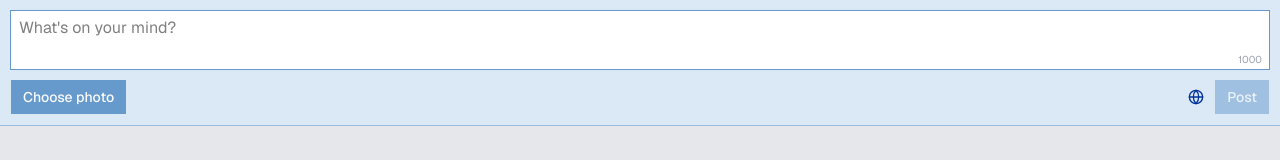
Test: PostComposer @mention autocomplete › shows a hint when no friends match
Type "@zzz" into the dropdown with placeholder "What's on your mind?" at (640,40), box [10,10,1270,70]
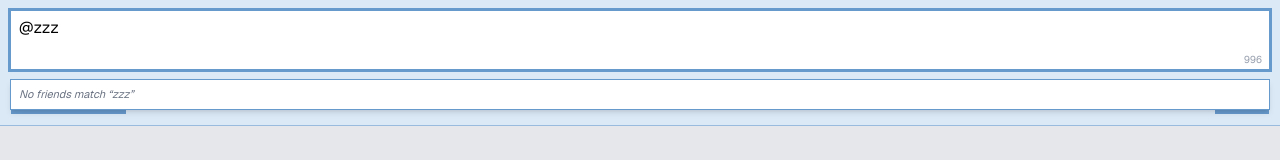
Check: the text "No friends match “zzz”" is shown, box [19,87,134,101]
